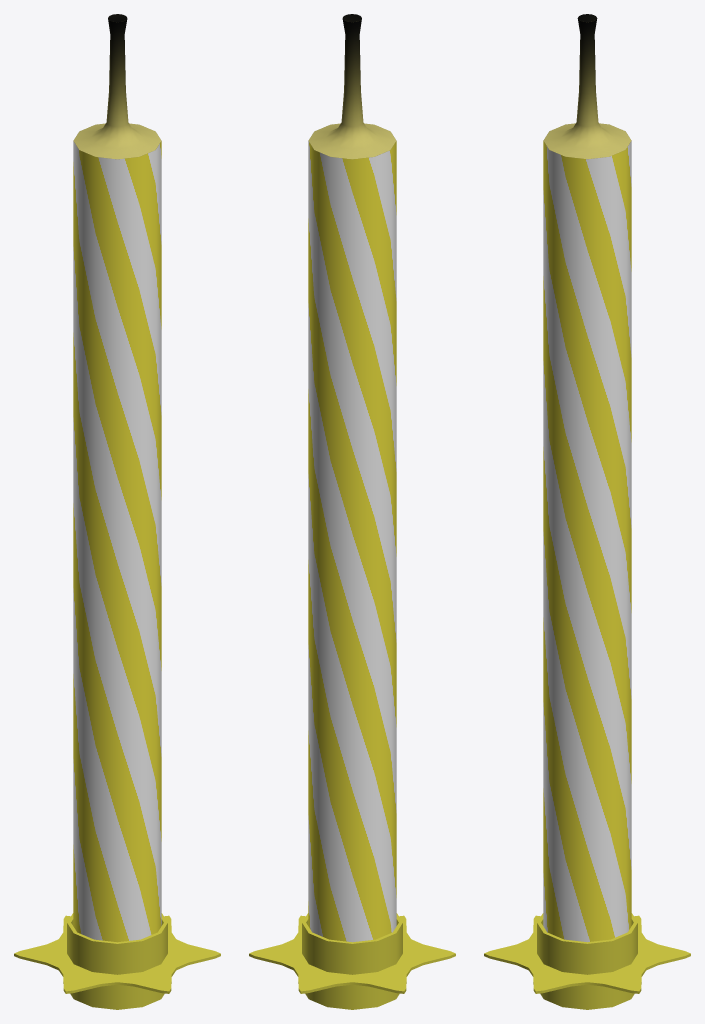
Rendered from Candle_Yellow.fbx.
3 views of the same model, side by side, from view 1: azimuth 30°, elevation 25°; view 2: azimuth 150°, elevation 25°; view 3: azimuth 270°, elevation 25° (orthographic).
Parts seen in each view (by area): view 1: Candle_Yellow, Candle_Holder_Yellow; view 2: Candle_Yellow, Candle_Holder_Yellow; view 3: Candle_Yellow, Candle_Holder_Yellow.
Part boxes in pixels (<box>): Candle_Yellow: <box>73,14,161,942</box>; Candle_Holder_Yellow: <box>14,913,220,1009</box>; Candle_Yellow: <box>308,14,396,942</box>; Candle_Holder_Yellow: <box>249,913,455,1009</box>; Candle_Yellow: <box>543,14,631,942</box>; Candle_Holder_Yellow: <box>484,913,690,1009</box>.
Size of the model in its own units: 1.64 by 9.81 by 1.9.
Materials: 3 (2 with a texture image).
